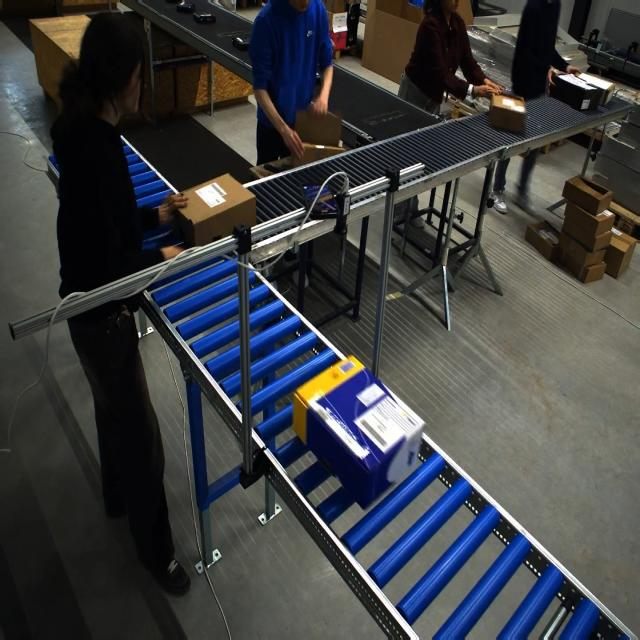box: (303, 360, 412, 499), (173, 175, 255, 249), (292, 108, 345, 170), (487, 91, 527, 133)
product: (231, 35, 250, 49), (193, 12, 216, 23), (176, 3, 196, 14)
